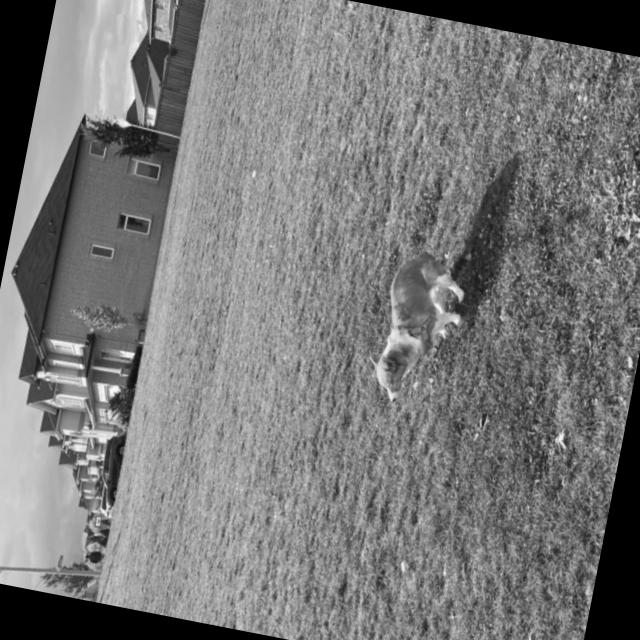squatting: (358, 232, 480, 415)
